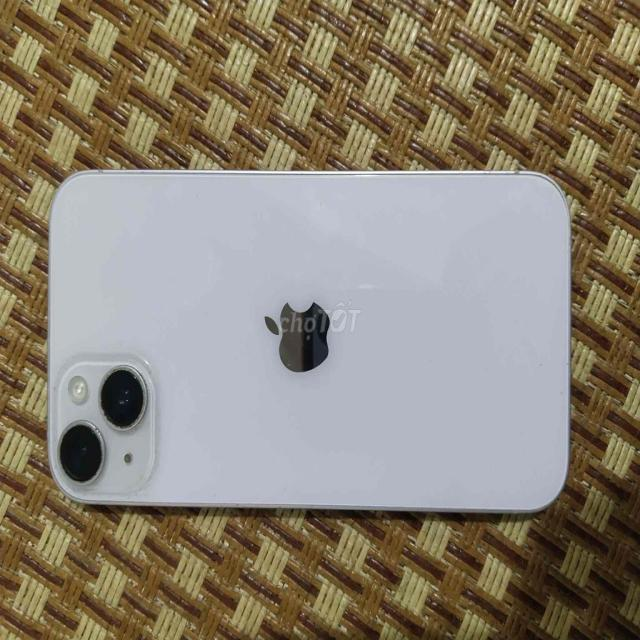gen_14: (42, 162, 580, 528)
scratch: (93, 358, 153, 447), (55, 418, 113, 494)
